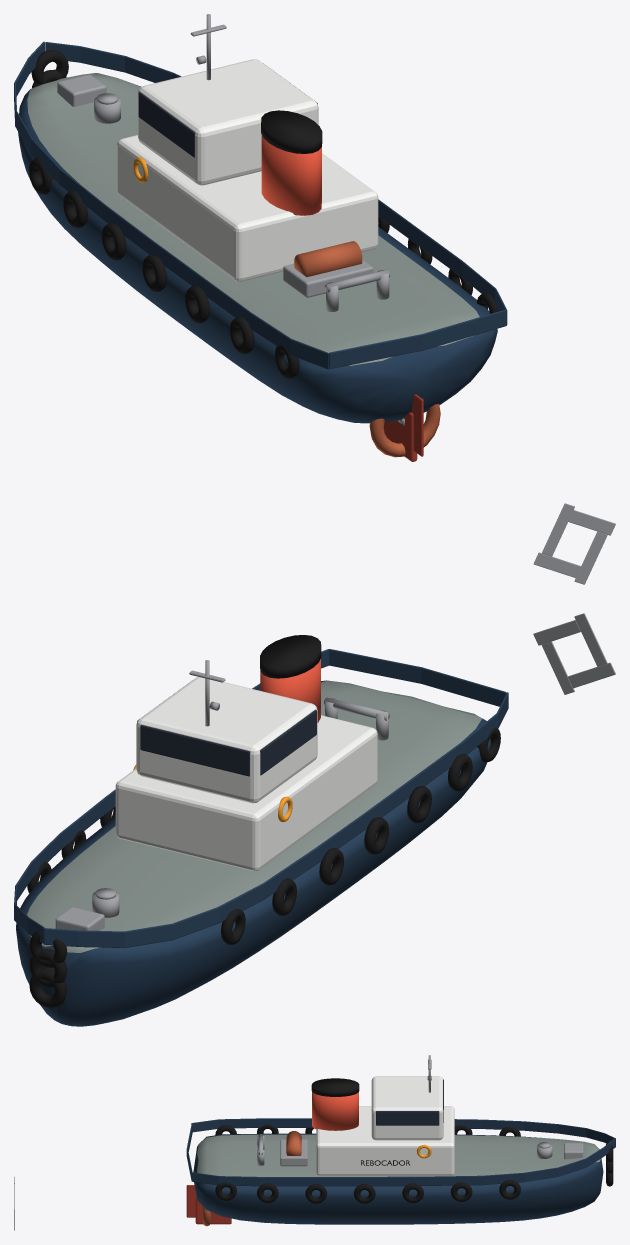
Rendered from rebocador.glb.
The picture shows the model from 3 angles, top to bottom: view 1: azimuth 30°, elevation 25°; view 2: azimuth 150°, elevation 25°; view 3: azimuth 270°, elevation 25°; orthographic projection. The views are drawn at different scales.
Parts seen in each view (by area): view 1: rebocador; view 2: rebocador; view 3: rebocador.
Boxes of the visible parts, <box> form: rebocador: <box>14,14,615,584</box>; rebocador: <box>14,613,615,1026</box>; rebocador: <box>14,1055,615,1230</box>.
Size of the model in its own units: 11.02 by 13.75 by 43.48.
